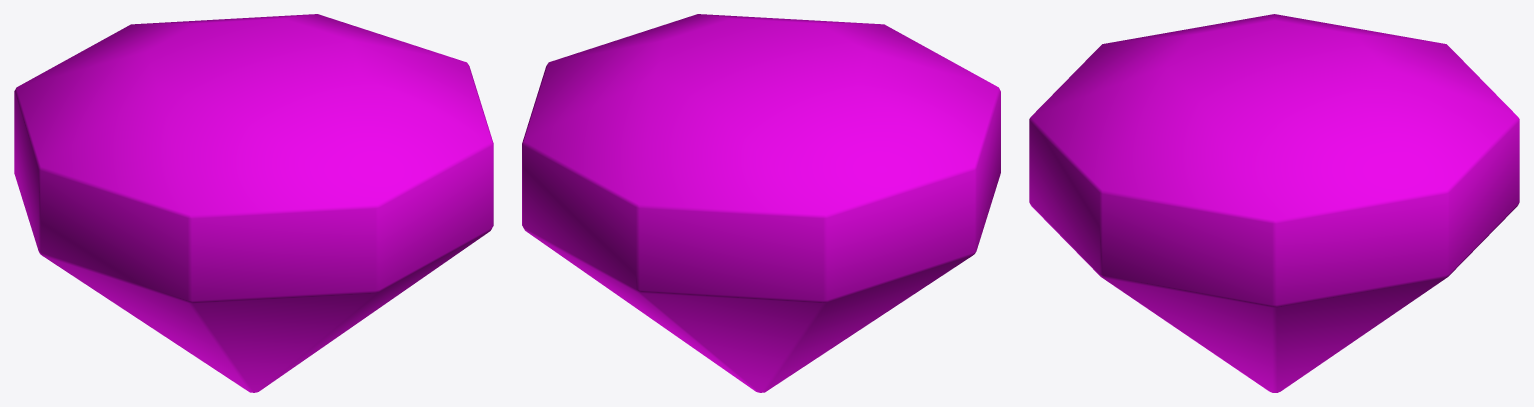
File: jewelry6.fbx
The picture shows the model from 3 angles, left to right: view 1: azimuth 30°, elevation 25°; view 2: azimuth 150°, elevation 25°; view 3: azimuth 270°, elevation 25°; orthographic projection.
Visible parts, largest first — view 1: 円.005; view 2: 円.005; view 3: 円.005.
Part boxes in pixels (bbox=[...]): 円.005: bbox=[14, 14, 493, 392]; 円.005: bbox=[522, 14, 1000, 392]; 円.005: bbox=[1029, 14, 1519, 392].
Size of the model in its own units: 199 by 145 by 199.
